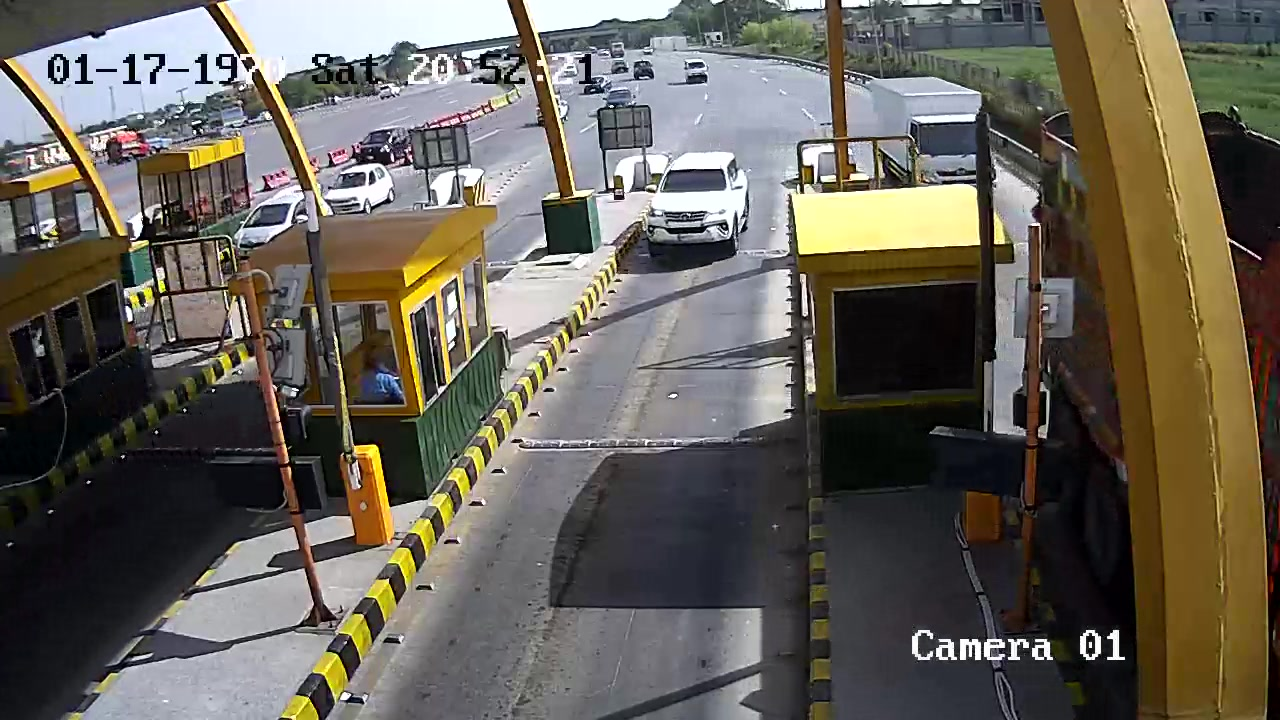F1: (643, 146, 754, 257)
